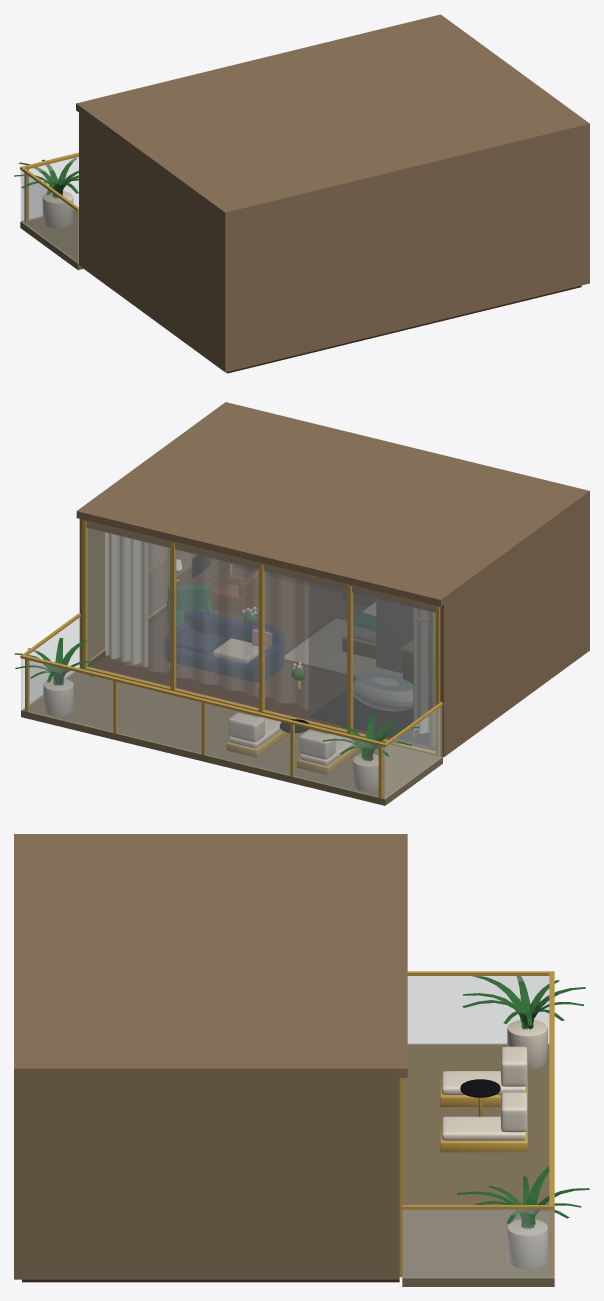
File: room_club.glb
3 renders of one model, top to bottom at view 1: azimuth 30°, elevation 25°; view 2: azimuth 150°, elevation 25°; view 3: azimuth 270°, elevation 25°, orthographic. The views are drawn at different scales.
Visible parts, largest first — view 1: RmClubS_LuxPlasterWarm, RmClubS_LuxGlass, RmClubS_LuxStoneFine, RmClubF_LuxPot, RmClubF_LuxLeaf, RmClubS_LuxHerringbone, RmClubS_LuxGold; view 2: RmClubS_LuxPlasterWarm, RmClubS_LuxGlass, RmClubS_LuxSheer, RmClubS_LuxStoneFine, RmClubF_LuxGlassSmoke, RmClubS_LuxHerringbone, RmClubS_LuxGold, RmClubS_LuxVelvetCream, RmClubF_LuxVelvetNavy, RmClubF_LuxMarbleWhite, RmClubF_LuxLinen, RmClubF_LuxRugWool (+11 smaller); view 3: RmClubS_LuxPlasterWarm, RmClubS_LuxStoneFine, RmClubS_LuxGlass, RmClubF_LuxLinen, RmClubS_LuxGold, RmClubF_LuxLeaf, RmClubF_LuxPot, RmClubF_LuxGoldBrushed, RmClubS_LuxHerringbone, RmClubF_LuxMarbleBlack.
Boxes of the visible parts, x1,y1,x2,y2 form: RmClubS_LuxPlasterWarm: (76, 14, 589, 372); RmClubS_LuxGlass: (21, 157, 78, 263); RmClubS_LuxStoneFine: (20, 209, 83, 270); RmClubF_LuxPot: (42, 191, 73, 228); RmClubF_LuxLeaf: (14, 158, 78, 197); RmClubS_LuxHerringbone: (226, 285, 581, 373); RmClubS_LuxGold: (20, 152, 78, 221); RmClubS_LuxPlasterWarm: (76, 402, 589, 757); RmClubS_LuxGlass: (21, 522, 442, 798); RmClubS_LuxSheer: (115, 535, 307, 708); RmClubS_LuxStoneFine: (21, 671, 442, 805); RmClubF_LuxGlassSmoke: (309, 582, 432, 736); RmClubS_LuxHerringbone: (91, 566, 435, 750); RmClubS_LuxGold: (20, 519, 443, 798); RmClubS_LuxVelvetCream: (105, 532, 429, 733); RmClubF_LuxVelvetNavy: (165, 609, 284, 682); RmClubF_LuxMarbleWhite: (376, 599, 435, 746); RmClubF_LuxLinen: (228, 602, 375, 765); RmClubF_LuxRugWool: (284, 618, 402, 678); RmClubS_LuxPlasterWarm: (14, 834, 407, 1279); RmClubS_LuxStoneFine: (402, 1043, 554, 1286); RmClubS_LuxGlass: (402, 976, 554, 1277); RmClubF_LuxLinen: (441, 1046, 527, 1140); RmClubS_LuxGold: (399, 971, 554, 1277); RmClubF_LuxLeaf: (457, 976, 589, 1229); RmClubF_LuxPot: (507, 1020, 547, 1268); RmClubF_LuxGoldBrushed: (440, 1077, 527, 1152); RmClubS_LuxHerringbone: (22, 1279, 399, 1282); RmClubF_LuxMarbleBlack: (460, 1079, 500, 1097).
Bounding box in the file's own units: 8.85 × 3.57 × 8.54.
